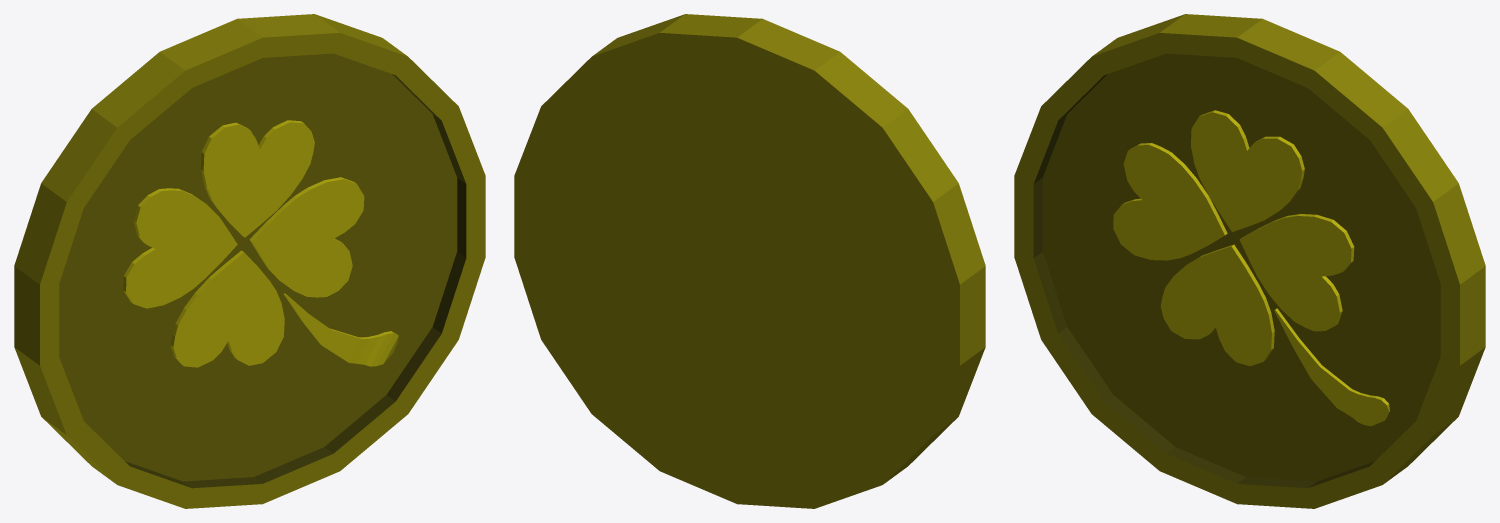
The model's file is Moeda.fbx.
3 views of the same model, side by side, from view 1: azimuth 30°, elevation 25°; view 2: azimuth 150°, elevation 25°; view 3: azimuth 330°, elevation 25° (orthographic).
Visible parts, largest first — view 1: Moeda_LoPo; view 2: Moeda_LoPo; view 3: Moeda_LoPo.
Boxes of the visible parts, x1,y1,x2,y2 form: Moeda_LoPo: [14, 14, 485, 508]; Moeda_LoPo: [514, 14, 985, 508]; Moeda_LoPo: [1014, 14, 1485, 508].
Bounding box in the file's own units: 100 × 100 × 10.
